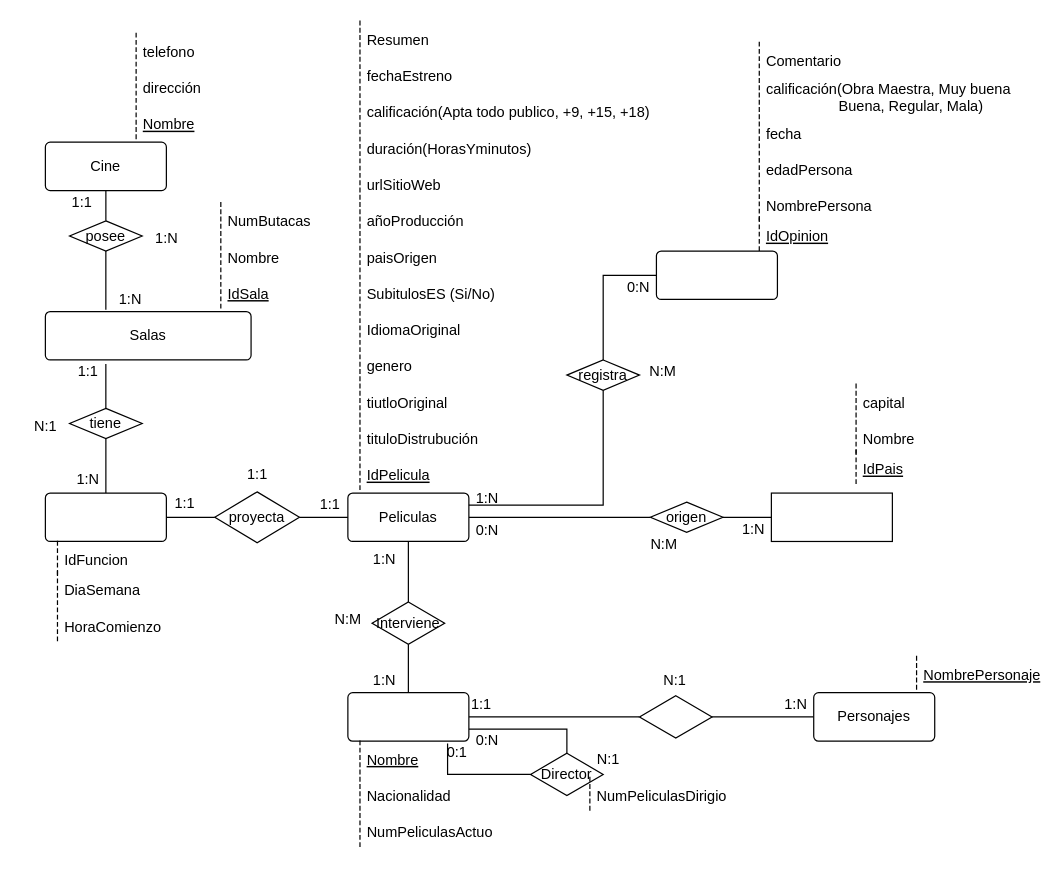
This 1062x871 diagram has some shape labels left out. Here are the shapes that lost their labels. From the top down, the centre of each, then its label:
(716,274): Opinion
(105,516): funciones
(831,516): Paises
(408,716): Actor/a
(675,716): Interpreta
